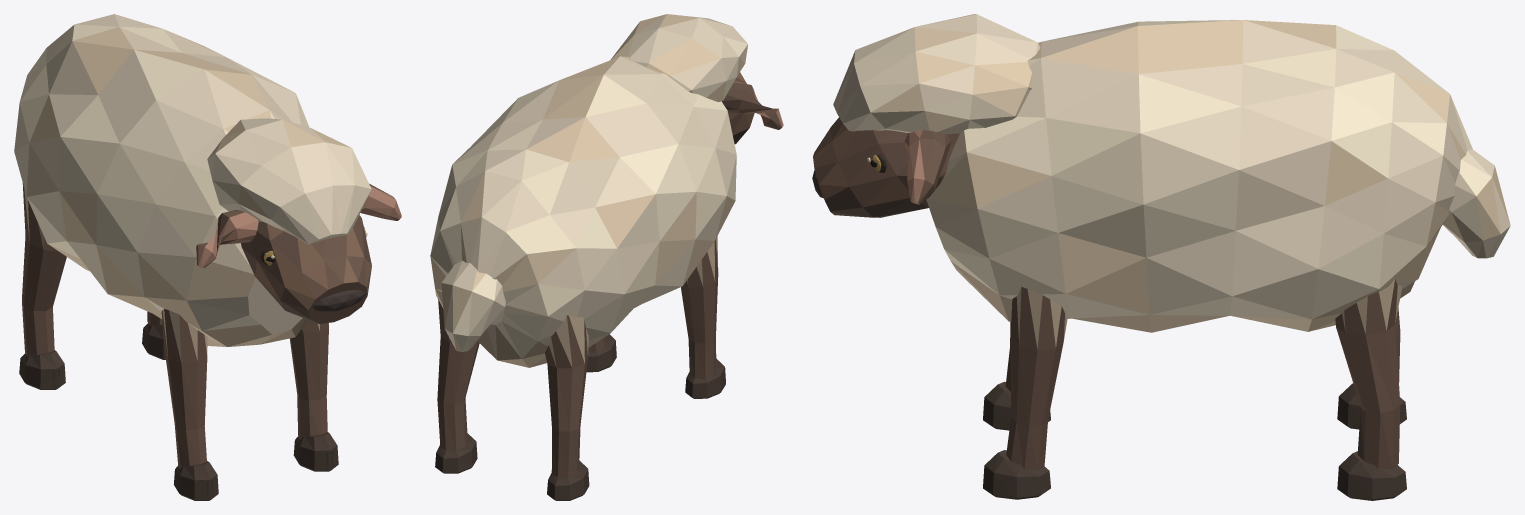
File: MOB_Sheep.glb
3 views of the same model, side by side, from view 1: azimuth 30°, elevation 25°; view 2: azimuth 150°, elevation 25°; view 3: azimuth 270°, elevation 25° (orthographic). The views are drawn at different scales.
Parts seen in each view (by area): view 1: SM_MOB_Sheep_Fleece, SM_MOB_Sheep_WoolCap, SM_MOB_Sheep_Face, SM_MOB_Sheep_FrontLeg_R, SM_MOB_Sheep_HindLeg_R, SM_MOB_Sheep_FrontLeg_L, SM_MOB_Sheep_Ear_R, SM_MOB_Sheep_Hoof_Hind_R, SM_MOB_Sheep_Hoof_Front_L, SM_MOB_Sheep_Hoof_Front_R, SM_MOB_Sheep_Ear_L, SM_MOB_Sheep_Nose (+1 smaller); view 2: SM_MOB_Sheep_Fleece, SM_MOB_Sheep_WoolCap, SM_MOB_Sheep_HindLeg_R, SM_MOB_Sheep_Tail, SM_MOB_Sheep_FrontLeg_R, SM_MOB_Sheep_HindLeg_L, SM_MOB_Sheep_Ear_R, SM_MOB_Sheep_Hoof_Hind_L, SM_MOB_Sheep_Hoof_Hind_R, SM_MOB_Sheep_Hoof_Front_R, SM_MOB_Sheep_Hoof_Front_L, SM_MOB_Sheep_Face; view 3: SM_MOB_Sheep_Fleece, SM_MOB_Sheep_WoolCap, SM_MOB_Sheep_HindLeg_L, SM_MOB_Sheep_Face, SM_MOB_Sheep_FrontLeg_L, SM_MOB_Sheep_Tail, SM_MOB_Sheep_Ear_L, SM_MOB_Sheep_Hoof_Hind_L, SM_MOB_Sheep_Hoof_Front_L, SM_MOB_Sheep_Hoof_Front_R, SM_MOB_Sheep_Hoof_Hind_R.
Part boxes in pixels (x1,y1,x2,y2): SM_MOB_Sheep_Fleece: (14, 14, 309, 346); SM_MOB_Sheep_WoolCap: (207, 118, 371, 244); SM_MOB_Sheep_Face: (241, 215, 371, 323); SM_MOB_Sheep_FrontLeg_R: (161, 309, 207, 468); SM_MOB_Sheep_HindLeg_R: (22, 183, 66, 356); SM_MOB_Sheep_FrontLeg_L: (289, 320, 328, 439); SM_MOB_Sheep_Ear_R: (196, 210, 258, 268); SM_MOB_Sheep_Hoof_Hind_R: (19, 350, 65, 389); SM_MOB_Sheep_Hoof_Front_L: (293, 432, 338, 471); SM_MOB_Sheep_Hoof_Front_R: (174, 461, 218, 500); SM_MOB_Sheep_Ear_L: (360, 184, 401, 220); SM_MOB_Sheep_Nose: (313, 289, 366, 311); SM_MOB_Sheep_Fleece: (430, 56, 736, 367); SM_MOB_Sheep_WoolCap: (610, 14, 747, 101); SM_MOB_Sheep_HindLeg_R: (545, 315, 588, 478); SM_MOB_Sheep_Tail: (441, 260, 505, 351); SM_MOB_Sheep_FrontLeg_R: (681, 236, 718, 379); SM_MOB_Sheep_HindLeg_L: (437, 298, 479, 450); SM_MOB_Sheep_Ear_R: (722, 81, 783, 129); SM_MOB_Sheep_Hoof_Hind_L: (435, 433, 477, 473); SM_MOB_Sheep_Hoof_Hind_R: (547, 460, 589, 500); SM_MOB_Sheep_Hoof_Front_R: (685, 358, 725, 398); SM_MOB_Sheep_Hoof_Front_L: (586, 334, 616, 372); SM_MOB_Sheep_Face: (728, 72, 754, 144); SM_MOB_Sheep_Fleece: (926, 20, 1472, 332); SM_MOB_Sheep_WoolCap: (833, 14, 1040, 133); SM_MOB_Sheep_HindLeg_L: (1335, 279, 1402, 469); SM_MOB_Sheep_Face: (813, 117, 959, 217); SM_MOB_Sheep_FrontLeg_L: (1006, 287, 1067, 470); SM_MOB_Sheep_Tail: (1442, 149, 1510, 258); SM_MOB_Sheep_Ear_L: (904, 130, 950, 204); SM_MOB_Sheep_Hoof_Hind_L: (1337, 451, 1406, 500); SM_MOB_Sheep_Hoof_Front_L: (983, 450, 1050, 499); SM_MOB_Sheep_Hoof_Front_R: (983, 381, 1050, 430); SM_MOB_Sheep_Hoof_Hind_R: (1337, 383, 1406, 429).
Size of the model in its own units: 0.76 by 1.25 by 1.84.
